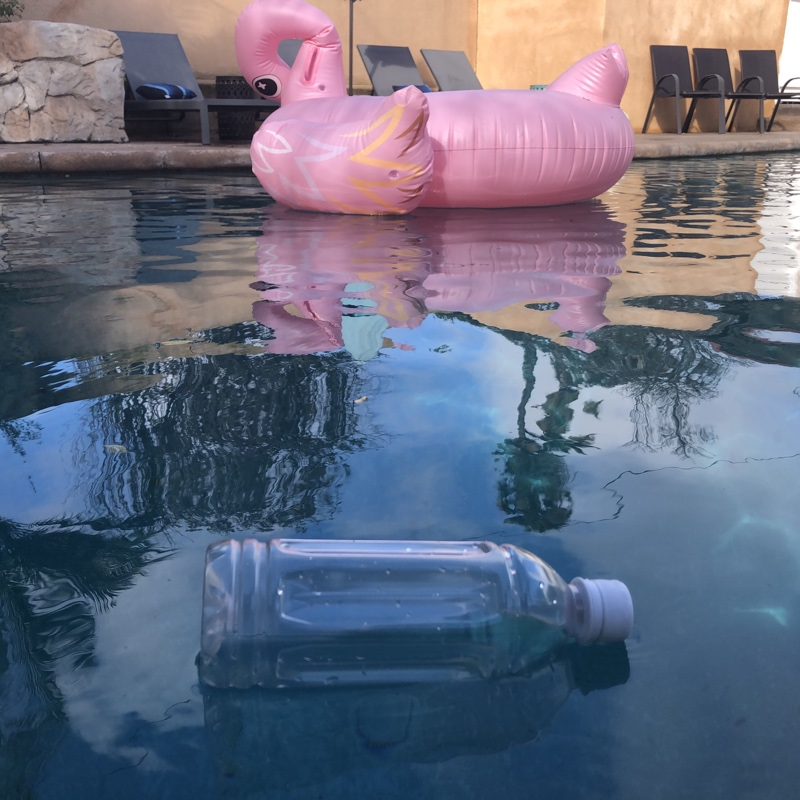Plastic Bottle: (194, 530, 640, 700)
